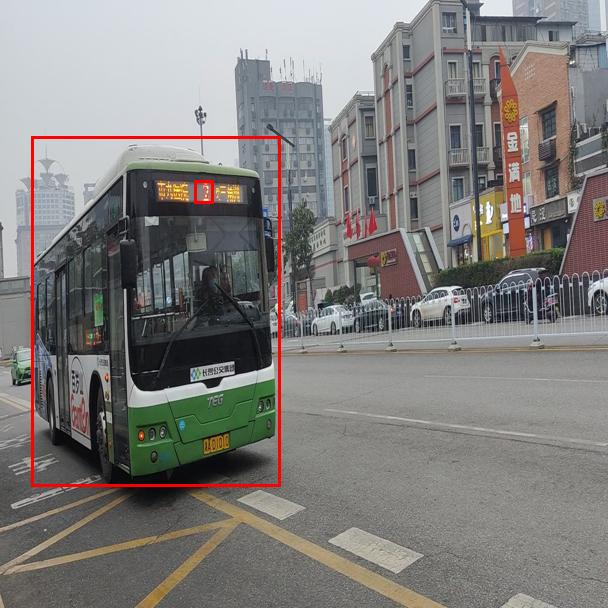bus: (31, 136, 280, 486)
screen: (194, 180, 213, 203)
